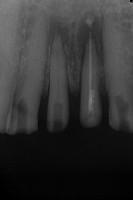Furcation Involvement: (77, 11, 104, 63), (48, 14, 71, 49)
